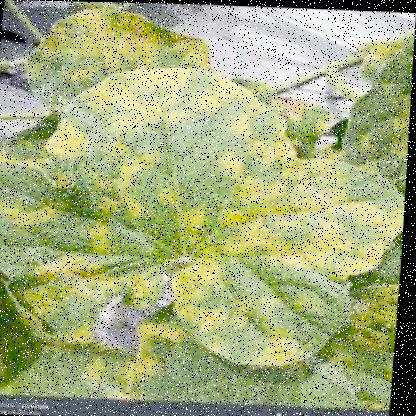DownyMildew: (45, 67, 249, 205), (14, 153, 214, 293), (202, 167, 390, 267)
